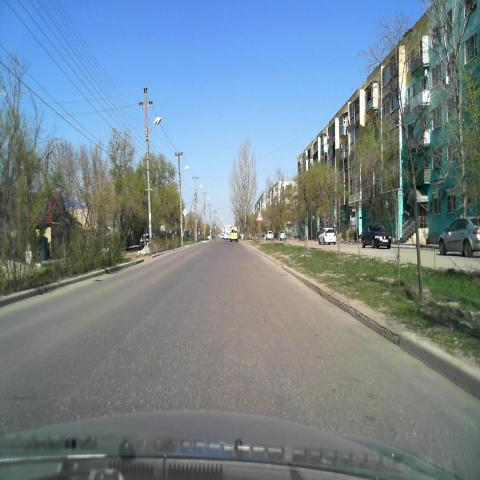1_23: (255, 210, 262, 222)
